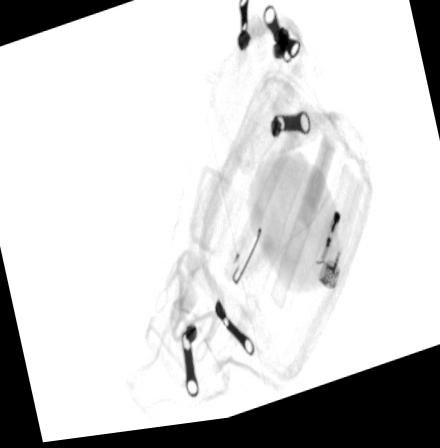Lighter: (312, 178, 363, 297)
